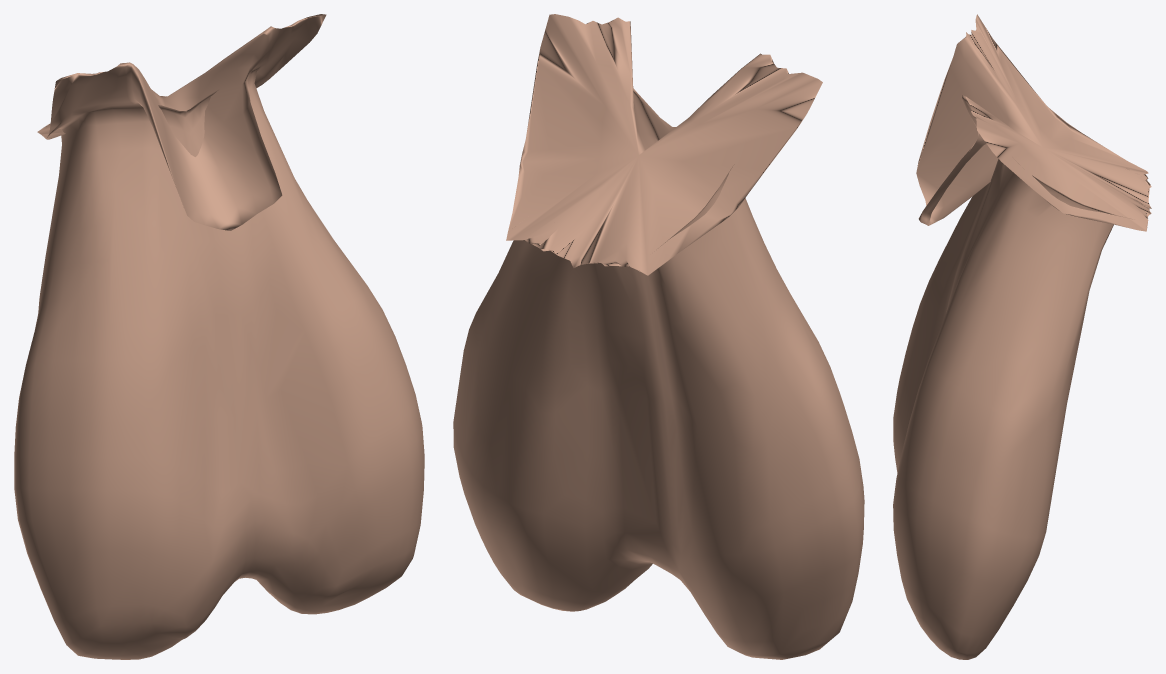
File: makehuman-scrotum.glb
The picture shows the model from 3 angles, left to right: view 1: azimuth 30°, elevation 25°; view 2: azimuth 150°, elevation 25°; view 3: azimuth 270°, elevation 25°; orthographic projection. The views are drawn at different scales.
Parts seen in each view (by area): view 1: mh_scrotum; view 2: mh_scrotum; view 3: mh_scrotum.
Boxes of the visible parts, left/top/right/bottom form: mh_scrotum: left=14, top=14, right=424, bottom=659; mh_scrotum: left=453, top=14, right=864, bottom=659; mh_scrotum: left=893, top=14, right=1151, bottom=659.
Bounding box in the file's own units: 0.0776 × 0.1116 × 0.0495.
